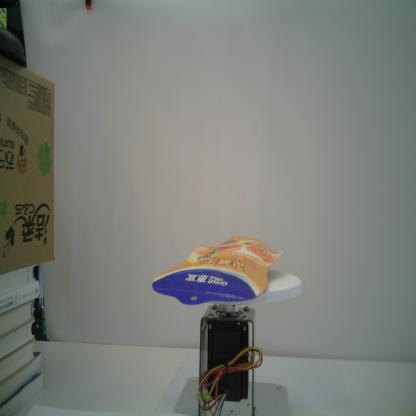Dried Fruit: (152, 235, 285, 306)
